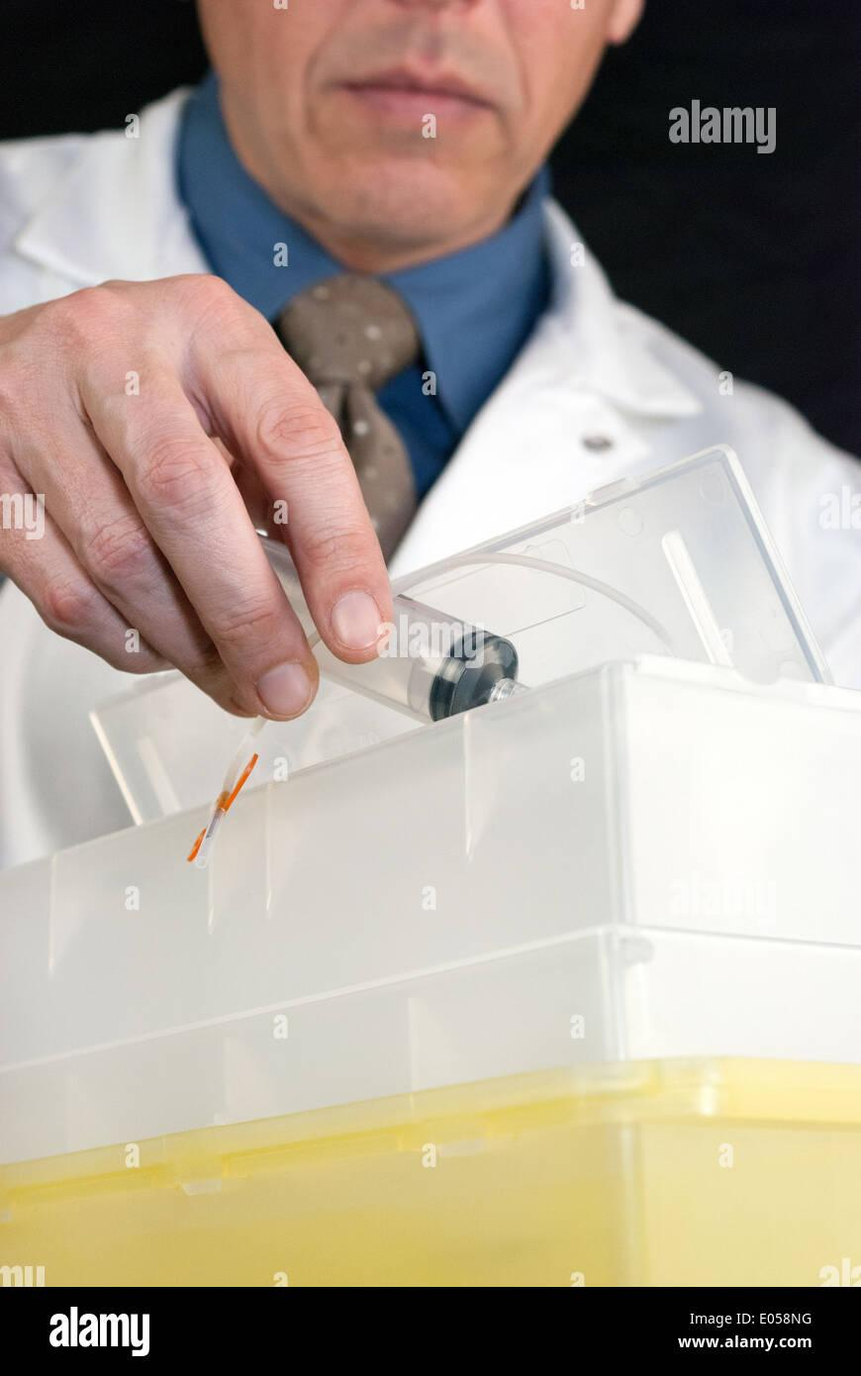Syringe: (313, 596, 525, 721)
